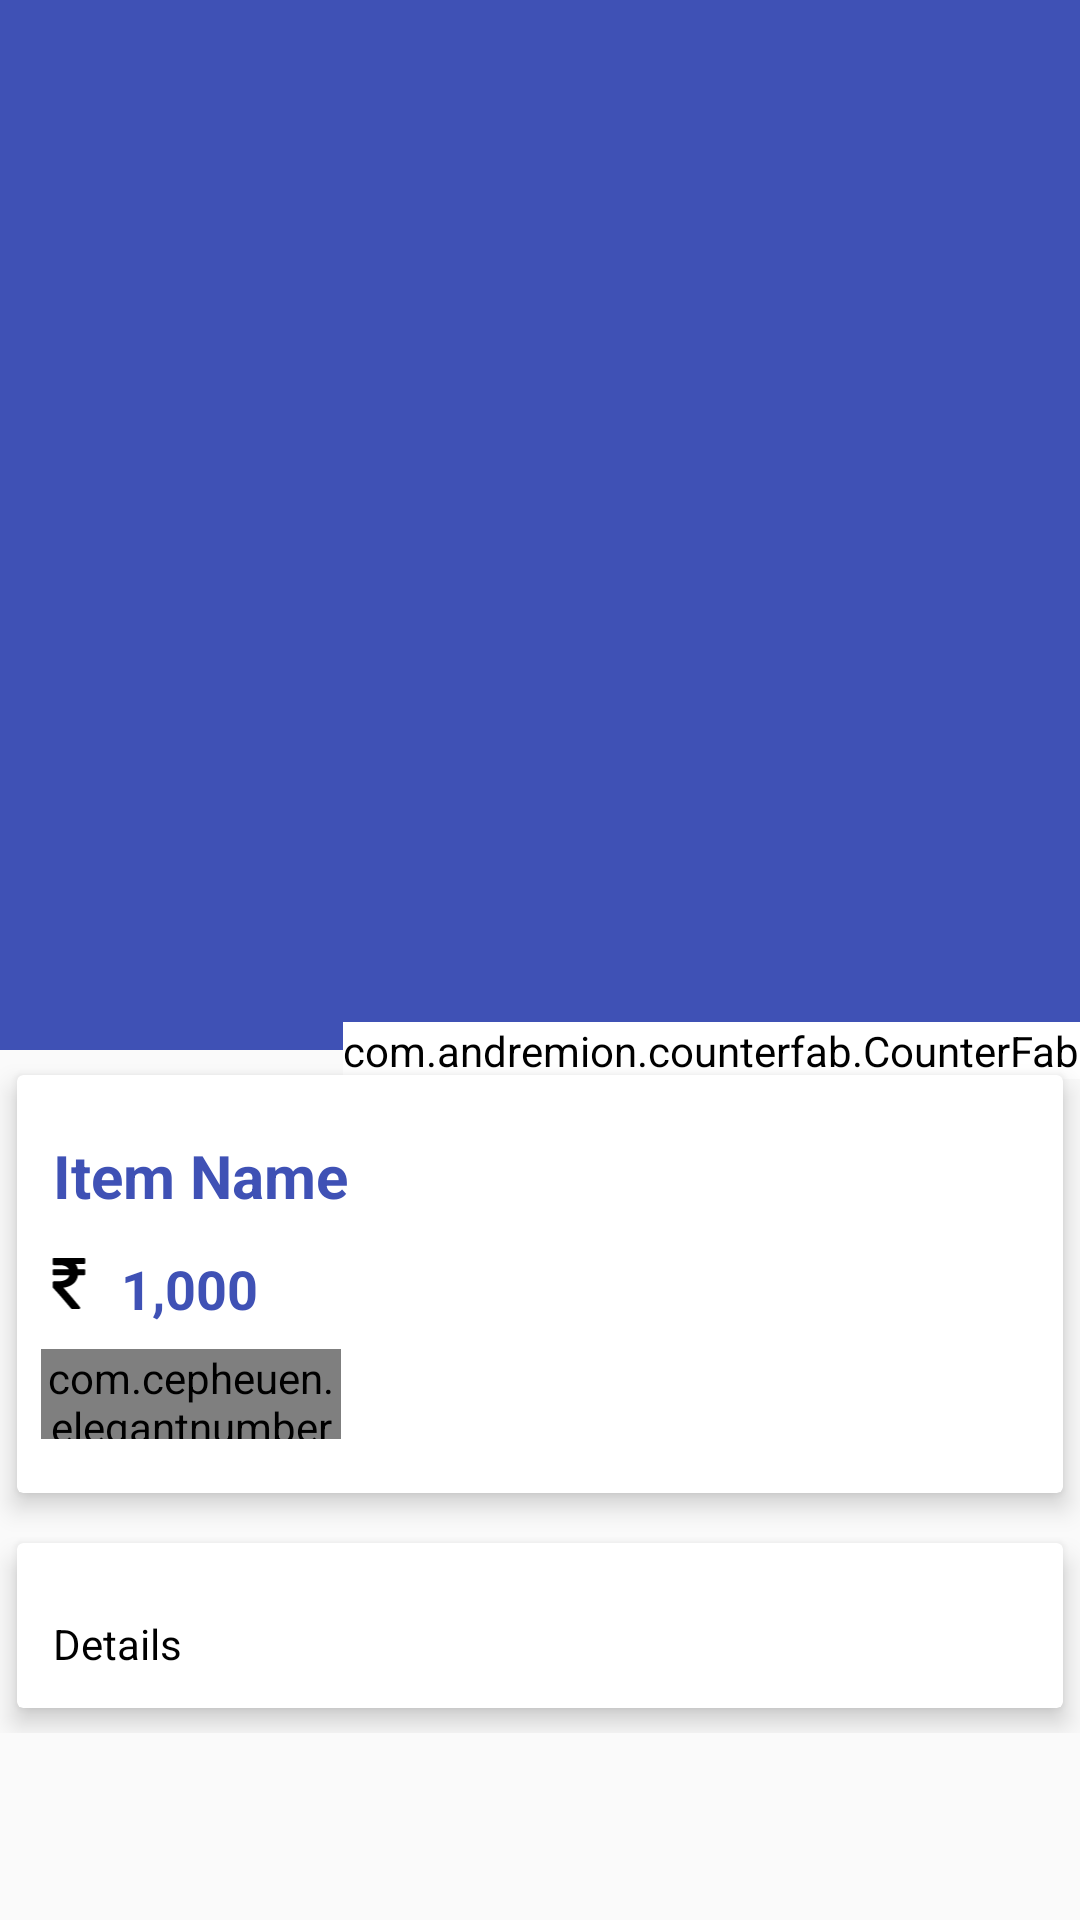

Point at icon controls on the screen. Image size 1080 x 1920, points as (x,y).
rupee indian: (69,1283)
